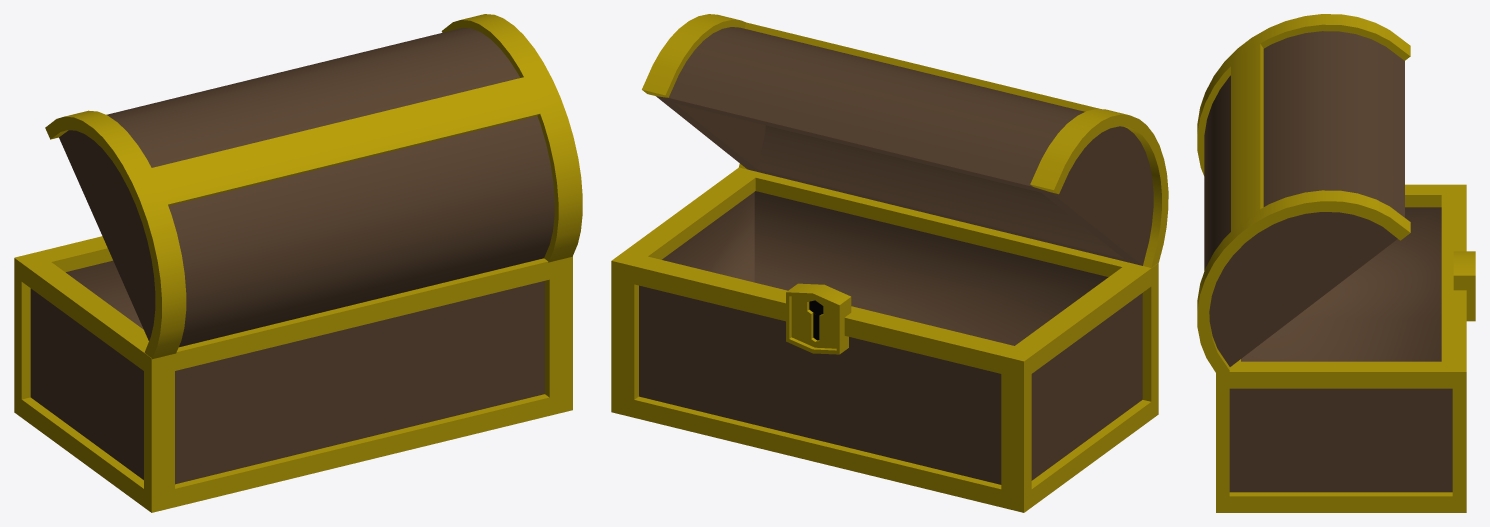
File: TreasureChest.fbx
The picture shows the model from 3 angles, left to right: view 1: azimuth 30°, elevation 25°; view 2: azimuth 150°, elevation 25°; view 3: azimuth 270°, elevation 25°; orthographic projection. The views are drawn at different scales.
Parts seen in each view (by area): view 1: TreasureChest; view 2: TreasureChest; view 3: TreasureChest.
Boxes of the visible parts, x1,y1,x2,y2 form: TreasureChest: (14, 14, 582, 512); TreasureChest: (611, 14, 1168, 512); TreasureChest: (1197, 14, 1475, 512).
Size of the model in its own units: 145 by 112 by 90.99.
